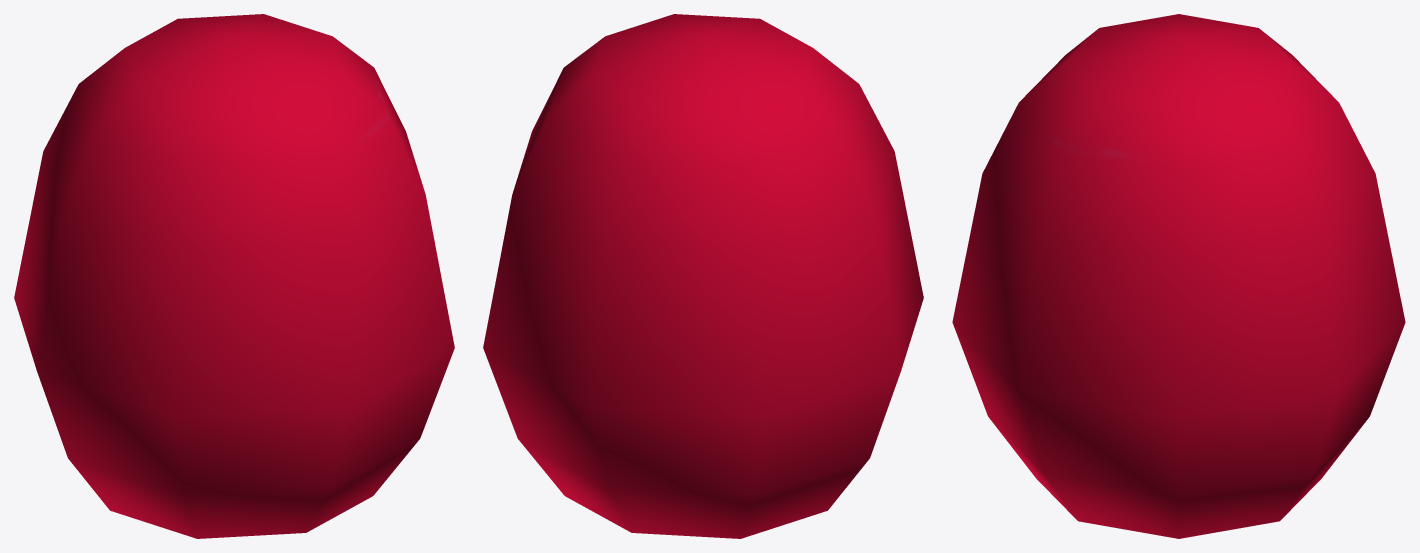
File: egg.glb
The picture shows the model from 3 angles, left to right: view 1: azimuth 30°, elevation 25°; view 2: azimuth 150°, elevation 25°; view 3: azimuth 270°, elevation 25°; orthographic projection.
Visible parts, largest first — view 1: Sphere; view 2: Sphere; view 3: Sphere.
Boxes of the visible parts, bbox=[...] form: Sphere: bbox=[14, 14, 454, 538]; Sphere: bbox=[483, 14, 923, 538]; Sphere: bbox=[952, 14, 1405, 538].
Bounding box in the file's own units: 2 × 2.14 × 2.
1 material, 1 textured.
